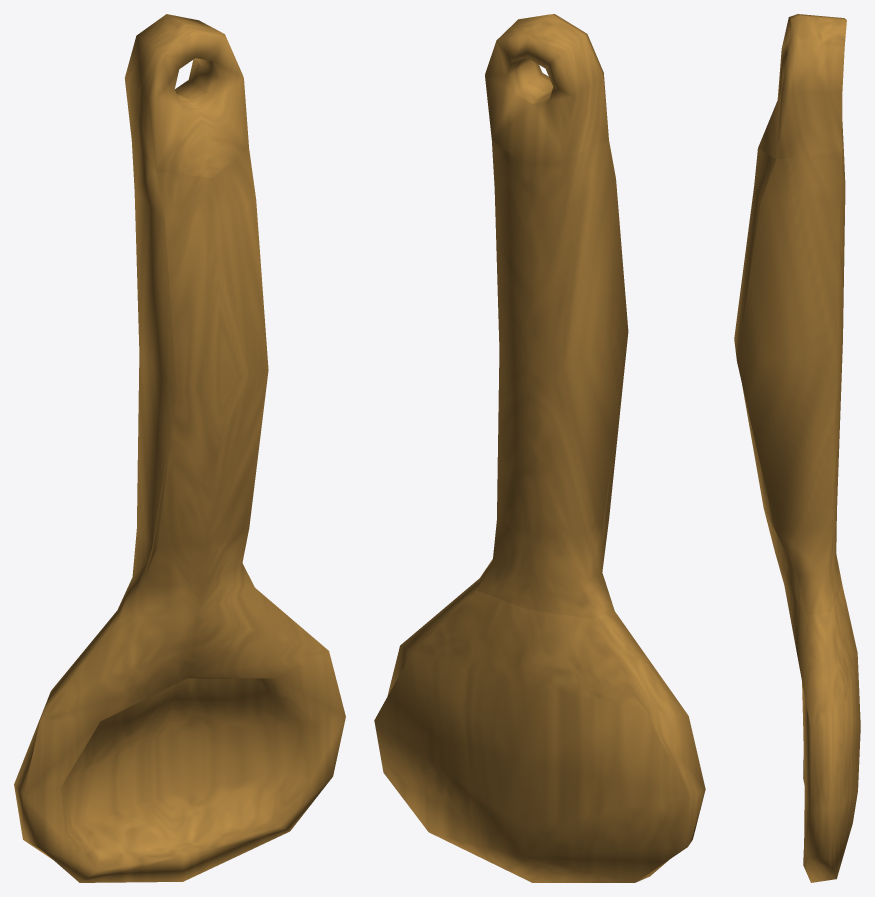
3 renders of one model, left to right at view 1: azimuth 30°, elevation 25°; view 2: azimuth 150°, elevation 25°; view 3: azimuth 270°, elevation 25°, orthographic. The views are drawn at different scales.
Parts seen in each view (by area): view 1: ustensils3_2; view 2: ustensils3_2; view 3: ustensils3_2.
Part boxes in pixels (x1,y1,x2,y2): ustensils3_2: (14, 14, 345, 882); ustensils3_2: (374, 14, 705, 882); ustensils3_2: (734, 14, 860, 882).
Bounding box in the file's own units: 0.0495 × 0.1263 × 0.0172.
1 material, 1 textured.
